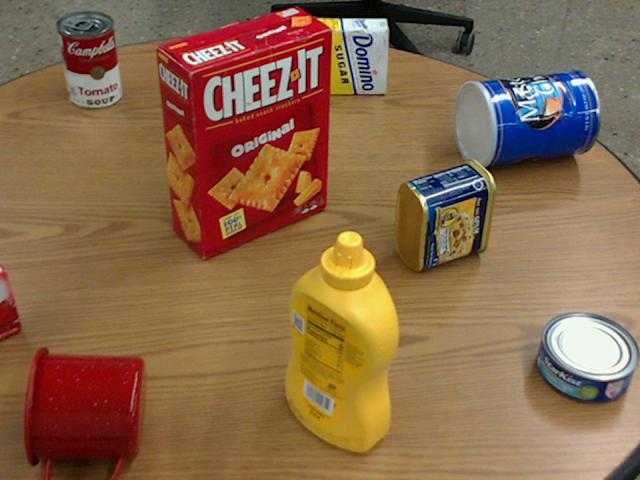cracker_box: (155, 7, 332, 258)
gelatin_box: (0, 263, 19, 338)
master_chef_can: (453, 70, 598, 168)
mug: (23, 345, 142, 479)
mustard_bottle: (285, 230, 396, 451)
potted_meat_can: (394, 157, 495, 271)
sugar_box: (254, 17, 390, 92)
tomato_soup_can: (57, 11, 121, 108)
tuna_fish_can: (535, 311, 636, 401)
